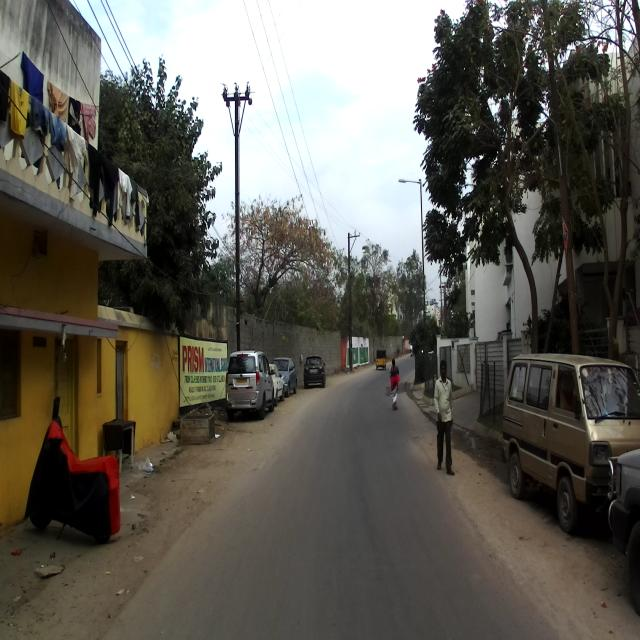car ahead at: (507, 348, 610, 538), (227, 344, 274, 416)
motorcycle ahead at: (33, 404, 120, 546)
person ahead at: (434, 356, 458, 474)
